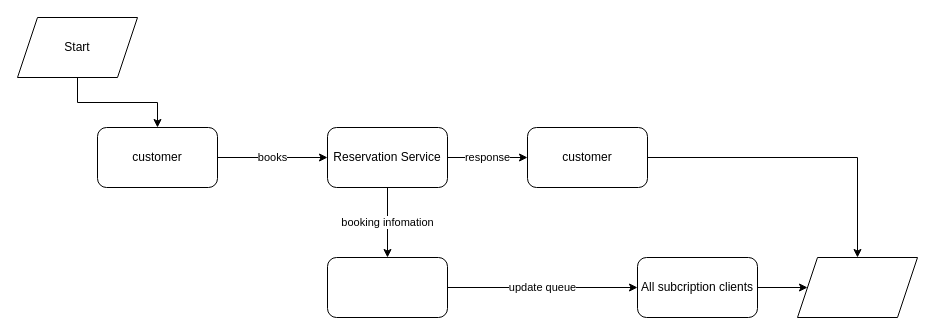
This 935x335 diagram has some shape labels left out. Each missing label, with the centre of its shape:
"Client Socket Manager" belongs at pixel 387 287.
"End" belongs at pixel 857 287.
